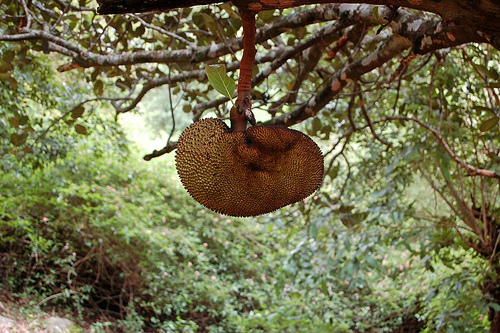jackfruit: (171, 116, 326, 219)
